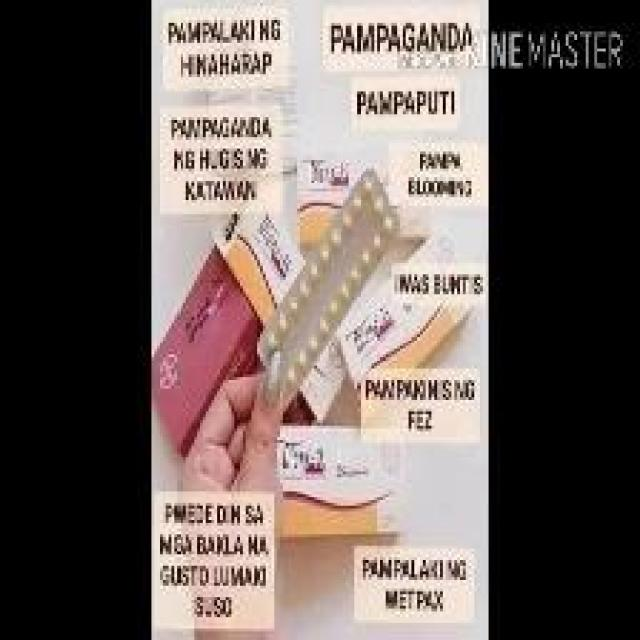Medicine: (199, 123, 471, 468)
